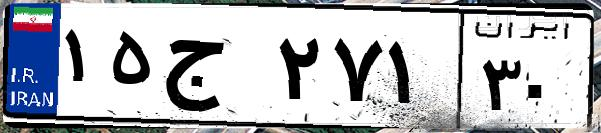0: (525, 38, 570, 115)
1: (385, 28, 445, 110), (57, 26, 110, 100)
2: (270, 28, 330, 110)
3: (475, 38, 525, 113)
5: (110, 28, 158, 98)
7: (330, 28, 385, 110)
ج: (158, 20, 270, 120)
